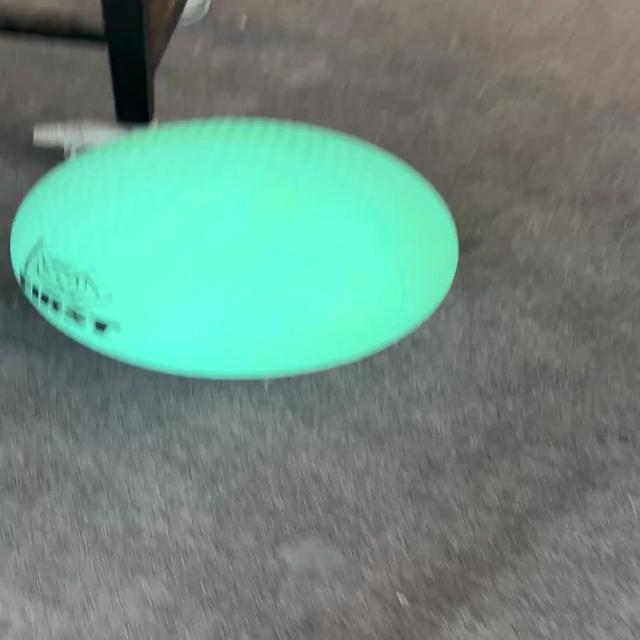Algae: (8, 116, 460, 382)
